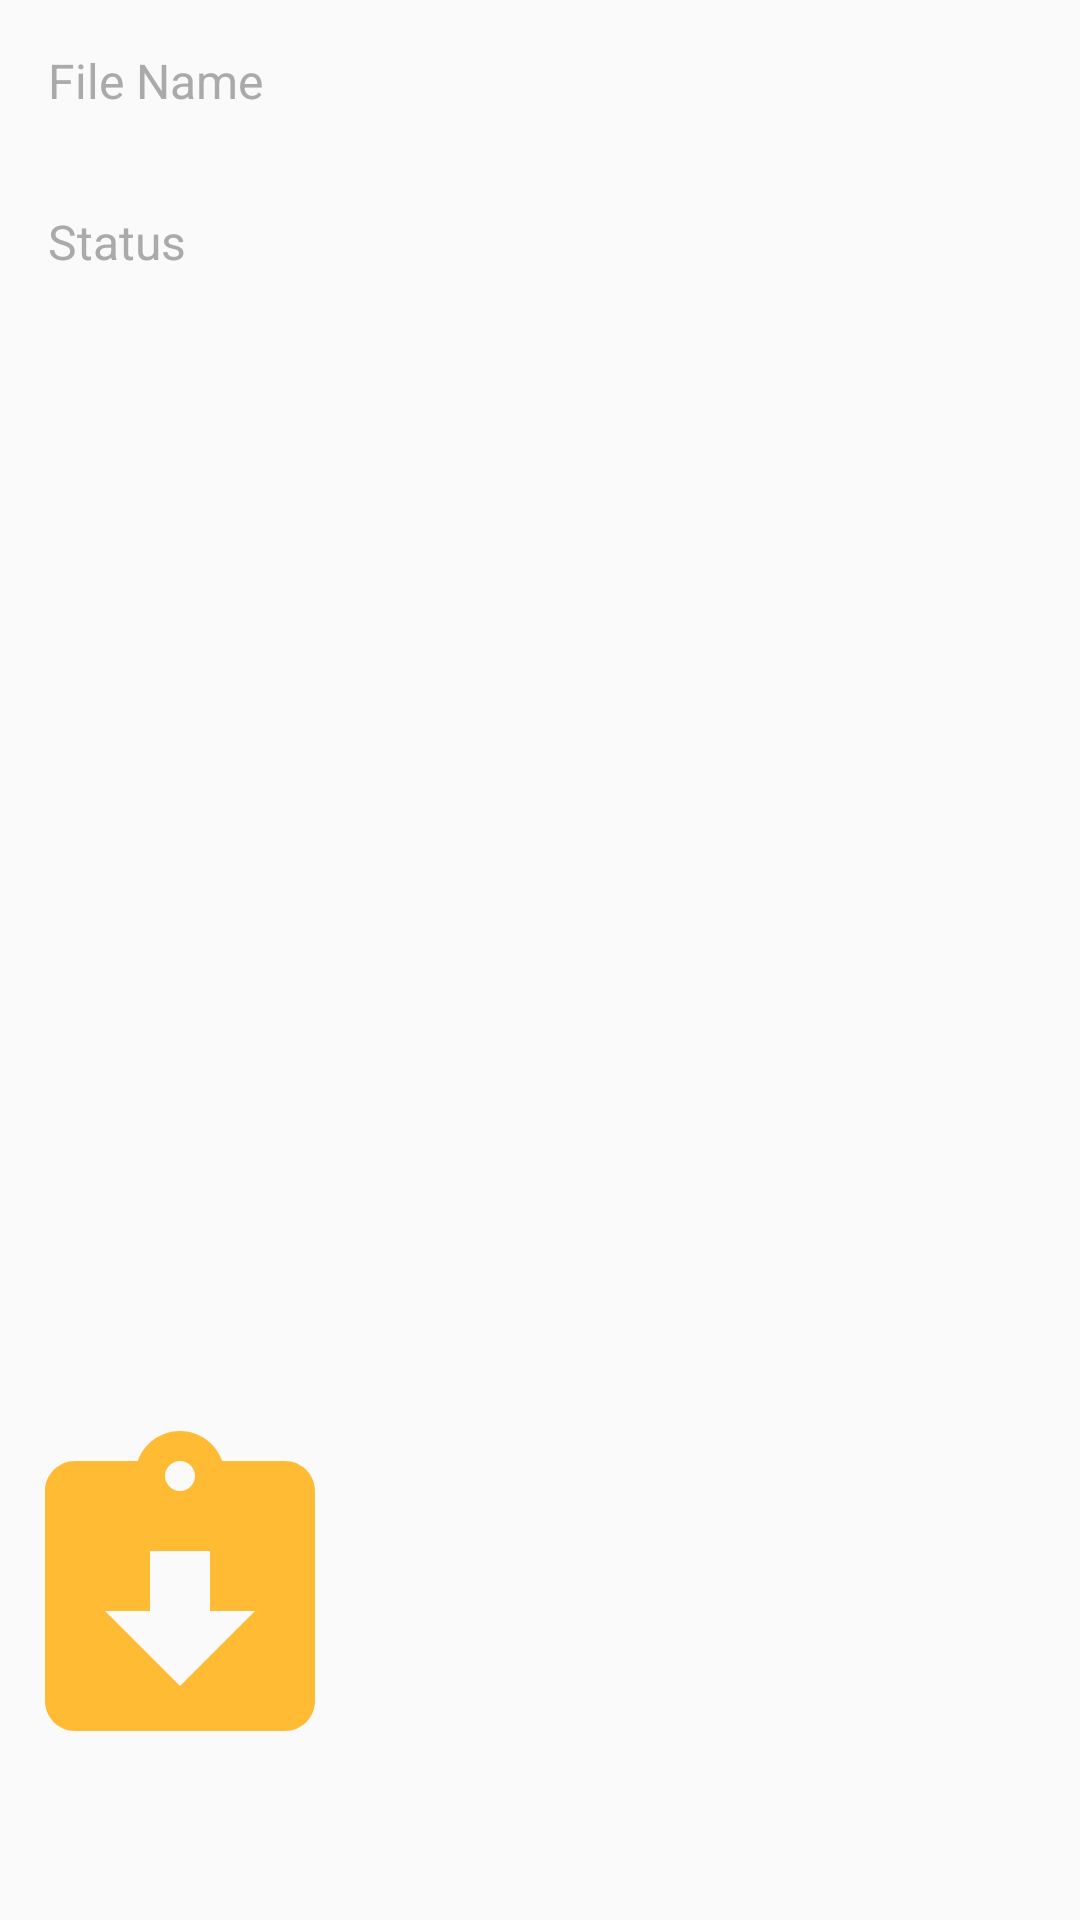

Point at icon controls on the screen. Image size 1080px×1920px, points as (x,y).
assignment returned: (180,1581)
